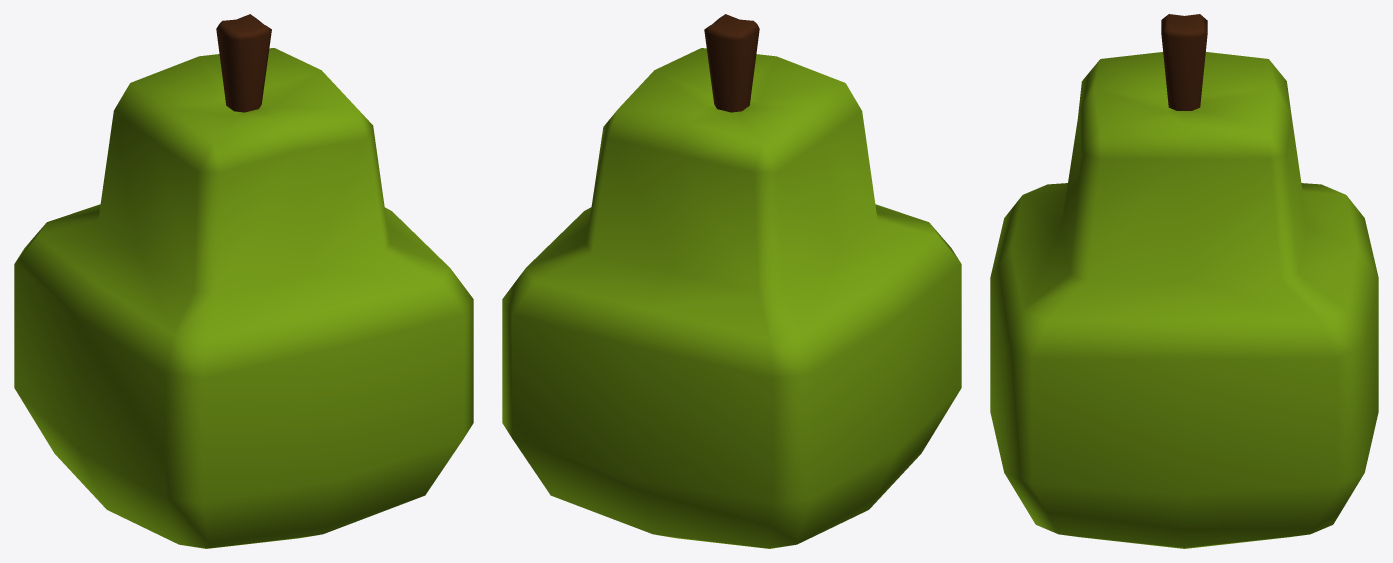
File: MSH_int_pear.fbx
3 renders of one model, left to right at view 1: azimuth 30°, elevation 25°; view 2: azimuth 150°, elevation 25°; view 3: azimuth 270°, elevation 25°, orthographic.
Visible parts, largest first — view 1: MSH_int_pear; view 2: MSH_int_pear; view 3: MSH_int_pear.
Part boxes in pixels (left/top/right/bottom): MSH_int_pear: left=14, top=14, right=473, bottom=548; MSH_int_pear: left=502, top=14, right=961, bottom=548; MSH_int_pear: left=990, top=14, right=1378, bottom=548.
Size of the model in its own units: 3.26 by 4.6 by 3.26.
